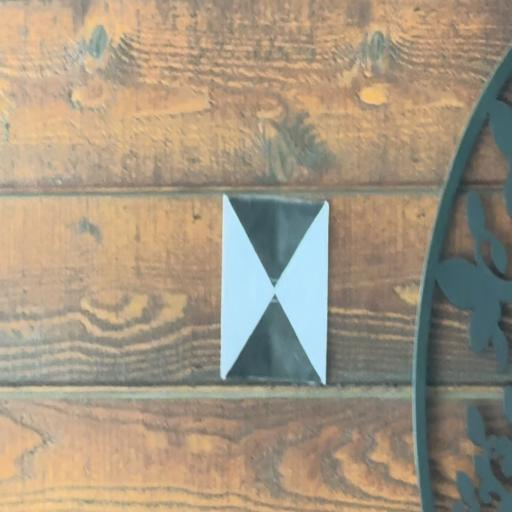target: (222, 194, 328, 383)
